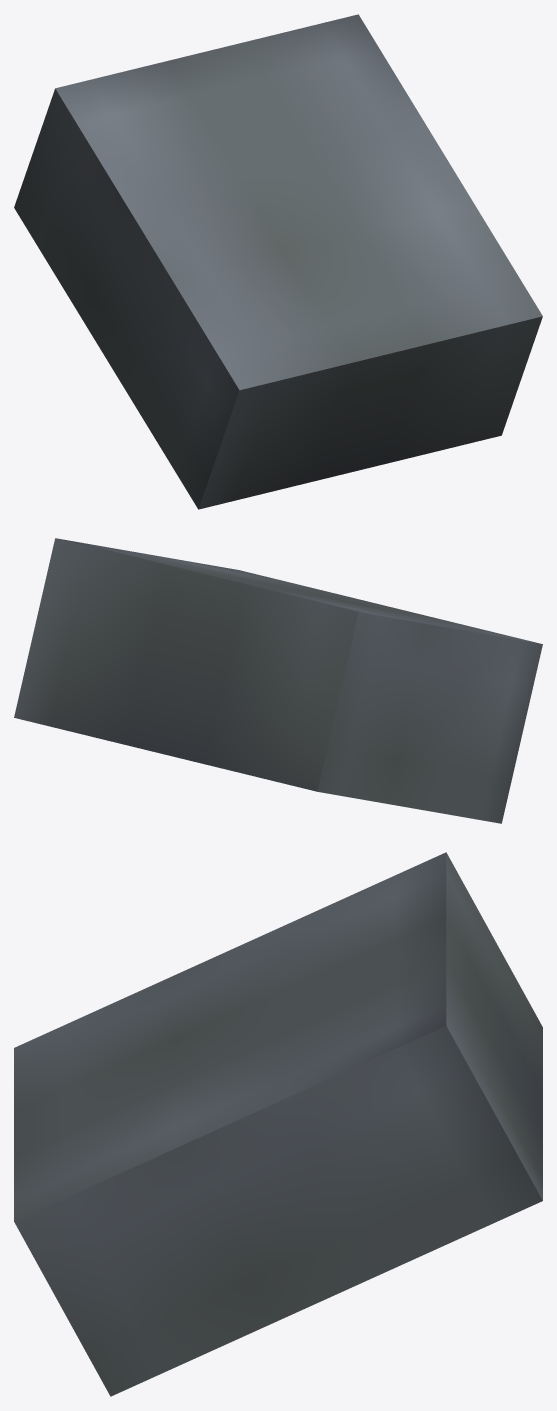
The model's file is angle_stone_type_01_blue.fbx.
3 renders of one model, top to bottom at view 1: azimuth 30°, elevation 25°; view 2: azimuth 150°, elevation 25°; view 3: azimuth 270°, elevation 25°, orthographic. The views are drawn at different scales.
Parts seen in each view (by area): view 1: angle_stone_type_01_blue; view 2: angle_stone_type_01_blue; view 3: angle_stone_type_01_blue.
Part boxes in pixels (<box>): angle_stone_type_01_blue: <box>14,14,542,509</box>; angle_stone_type_01_blue: <box>14,538,542,823</box>; angle_stone_type_01_blue: <box>14,852,542,1396</box>.
Bounding box in the file's own units: 3.8 × 3.79 × 4.89.
